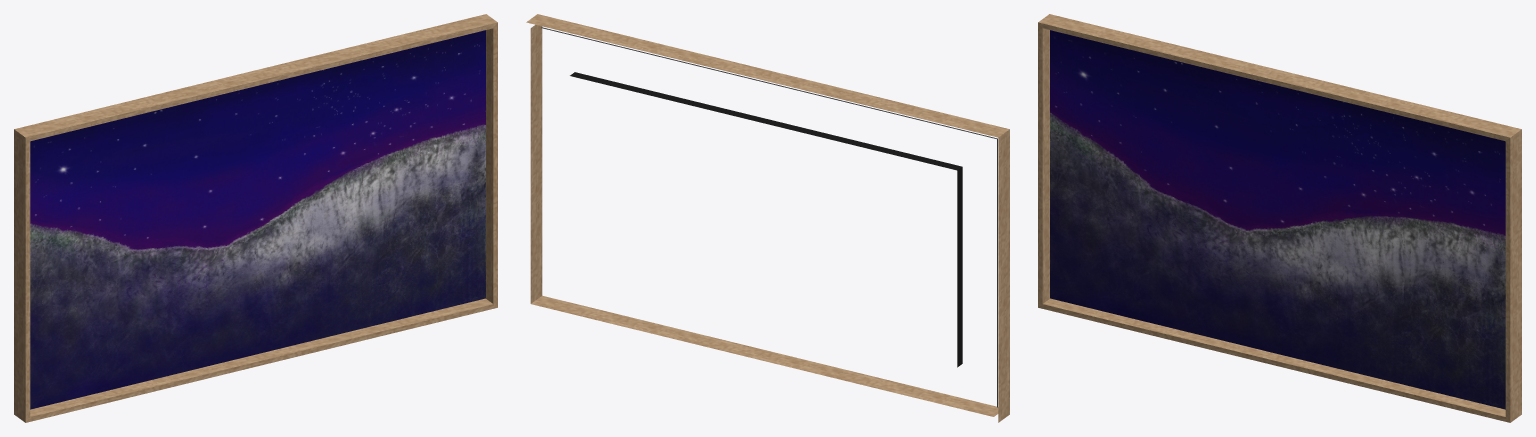
The model's file is hz029_moyen_caisse-chene.glb.
The picture shows the model from 3 angles, left to right: view 1: azimuth 30°, elevation 25°; view 2: azimuth 150°, elevation 25°; view 3: azimuth 330°, elevation 25°; orthographic projection.
Visible parts, largest first — view 1: hz029_moyen_caisse-chene; view 2: hz029_moyen_caisse-chene; view 3: hz029_moyen_caisse-chene.
Boxes of the visible parts, x1,y1,x2,y2 form: hz029_moyen_caisse-chene: (14, 14, 497, 422); hz029_moyen_caisse-chene: (526, 14, 1009, 422); hz029_moyen_caisse-chene: (1038, 14, 1521, 422).
Bounding box in the file's own units: 0.828 × 0.478 × 0.035.
Materials: 4 (2 with a texture image).
